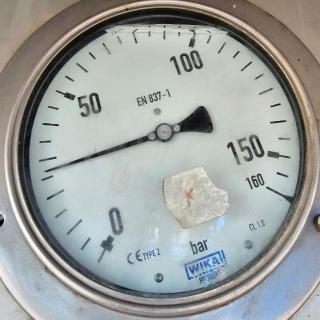gauge: (0, 0, 320, 320), (80, 201, 140, 275), (239, 161, 293, 215), (153, 122, 174, 142), (40, 164, 56, 176)
